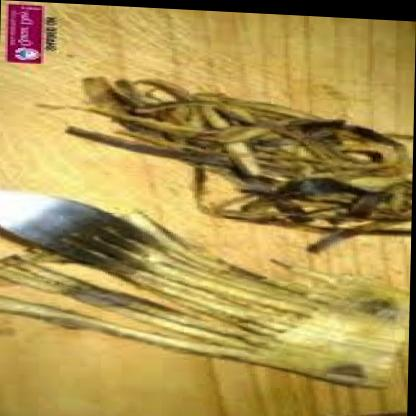Disposable tableware: (19, 1, 401, 391)
